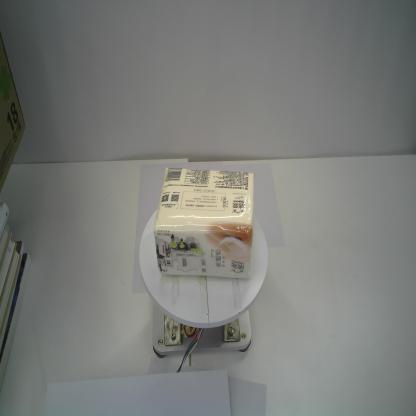Tissue: (152, 166, 254, 280)
